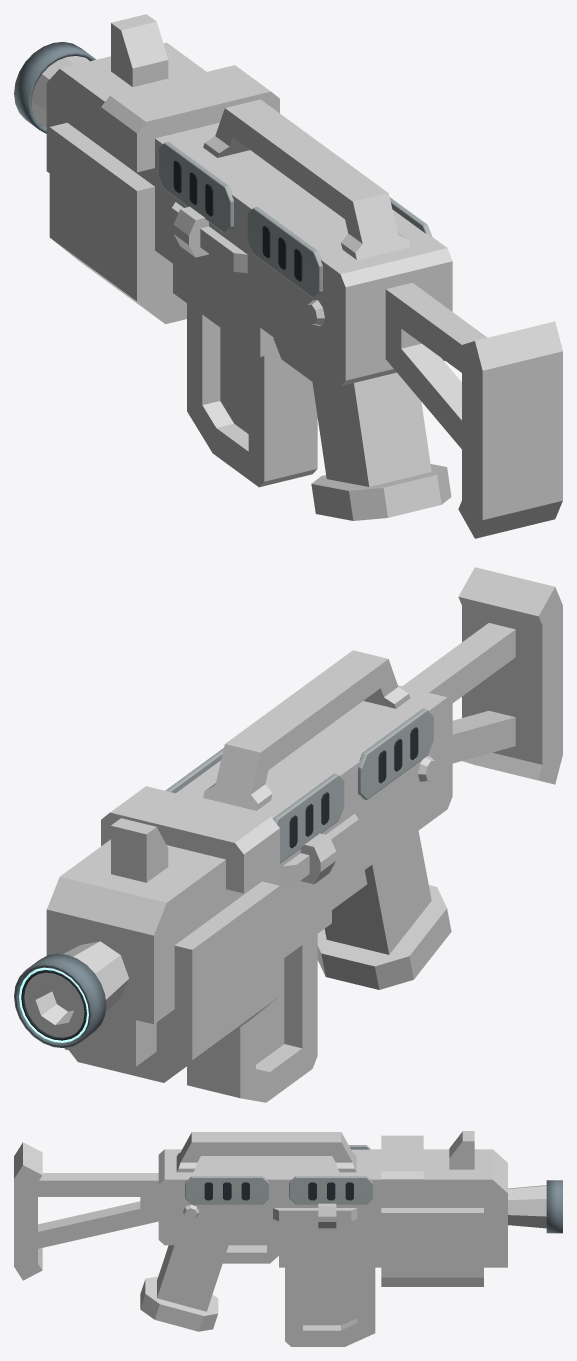
Rendered from blaster-d-mk3.glb.
3 renders of one model, top to bottom at view 1: azimuth 30°, elevation 25°; view 2: azimuth 150°, elevation 25°; view 3: azimuth 270°, elevation 25°, orthographic. The views are drawn at different scales.
Parts seen in each view (by area): view 1: Pink War MKIII / LANCE; view 2: Pink War MKIII / LANCE; view 3: Pink War MKIII / LANCE.
Boxes of the visible parts, bbox=[...] form: Pink War MKIII / LANCE: bbox=[14, 14, 562, 538]; Pink War MKIII / LANCE: bbox=[14, 567, 562, 1102]; Pink War MKIII / LANCE: bbox=[14, 1131, 562, 1346].
Bounding box in the file's own units: 0.165 × 0.3719 × 0.9114.
